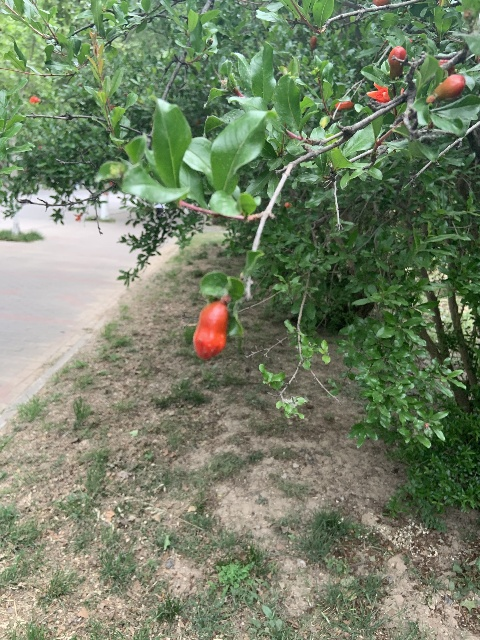bud: (193, 300, 228, 360), (435, 74, 465, 100), (387, 45, 406, 77), (335, 101, 354, 109), (310, 36, 317, 50)
flower: (366, 82, 403, 103), (29, 96, 40, 103)
